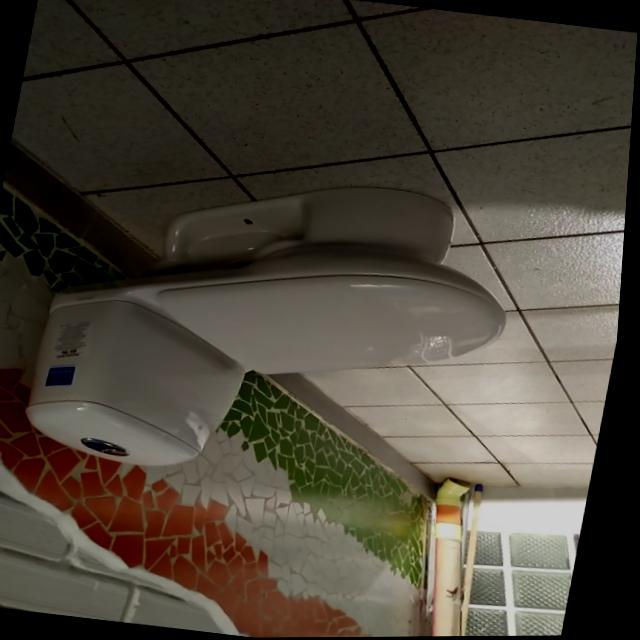toilet: (20, 148, 535, 509)
